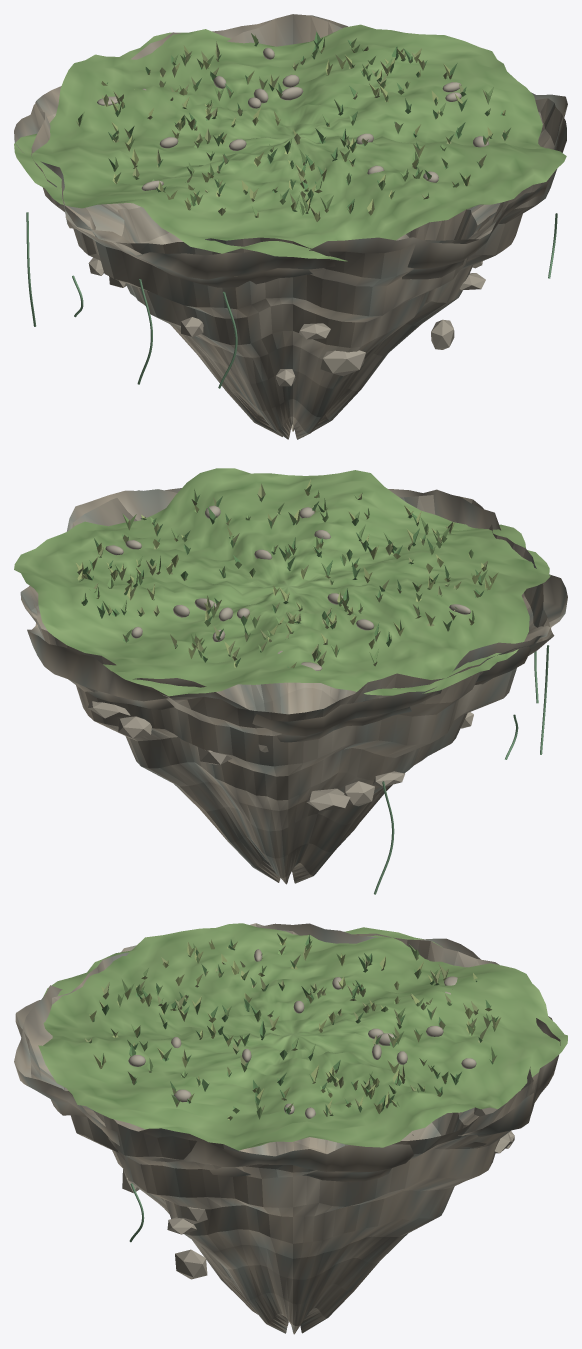
Rendered from veyra_floating_island_02.glb.
3 renders of one model, top to bottom at view 1: azimuth 30°, elevation 25°; view 2: azimuth 150°, elevation 25°; view 3: azimuth 270°, elevation 25°, orthographic.
Parts seen in each view (by area): view 1: Veyra Floating Island 02; view 2: Veyra Floating Island 02; view 3: Veyra Floating Island 02.
Boxes of the visible parts, box(x1,y1,x2,y2) form: Veyra Floating Island 02: box(14, 14, 567, 439); Veyra Floating Island 02: box(14, 468, 567, 894); Veyra Floating Island 02: box(14, 923, 567, 1334).
Bounding box in the file's own units: 2.14 × 1.33 × 2.11.
